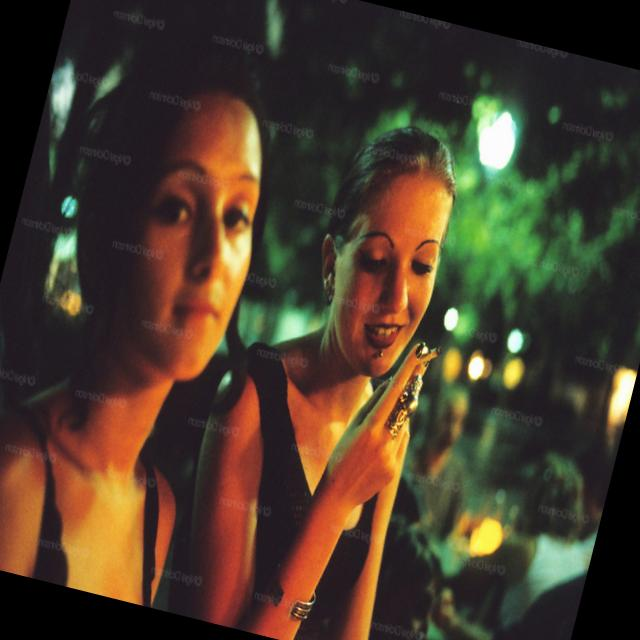cigarette: (409, 338, 444, 374)
